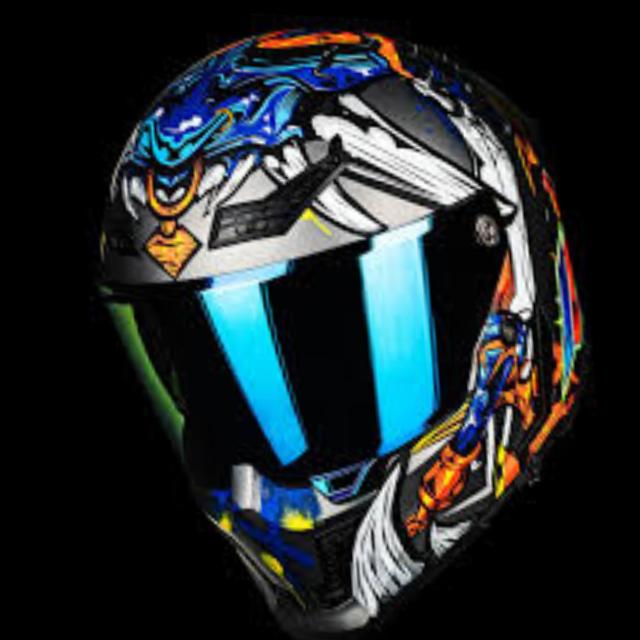motorcycle-helmets: (100, 30, 588, 637)
